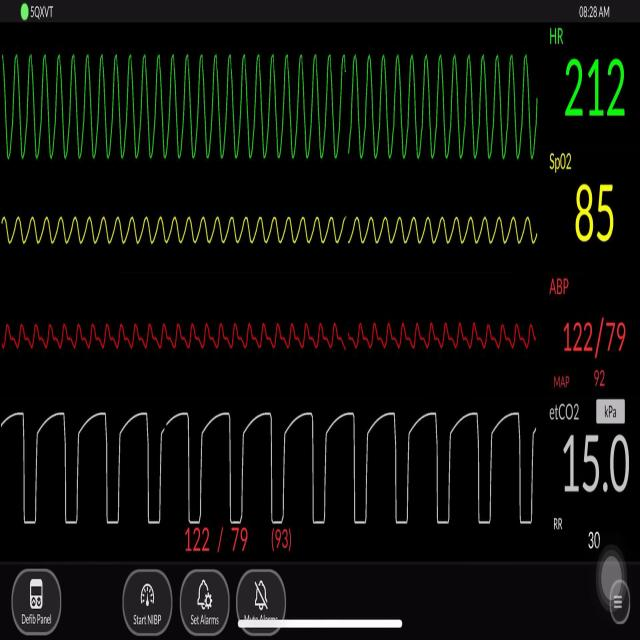danger: (0, 30, 542, 178)
